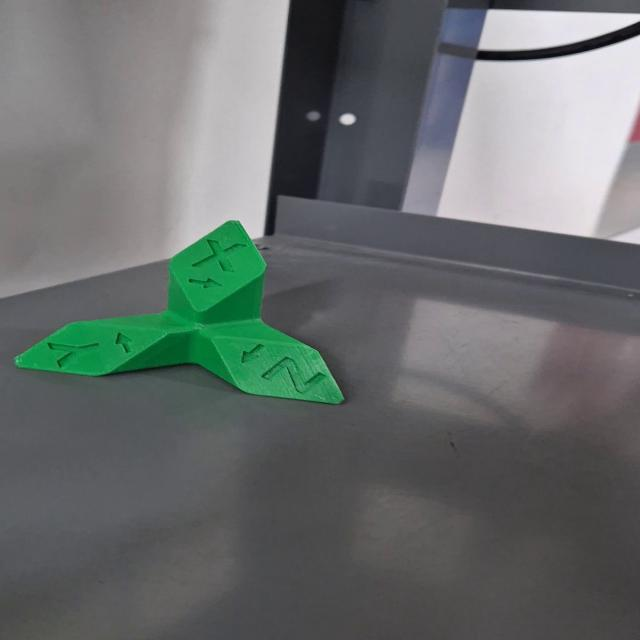objects: (8, 215, 355, 409)
